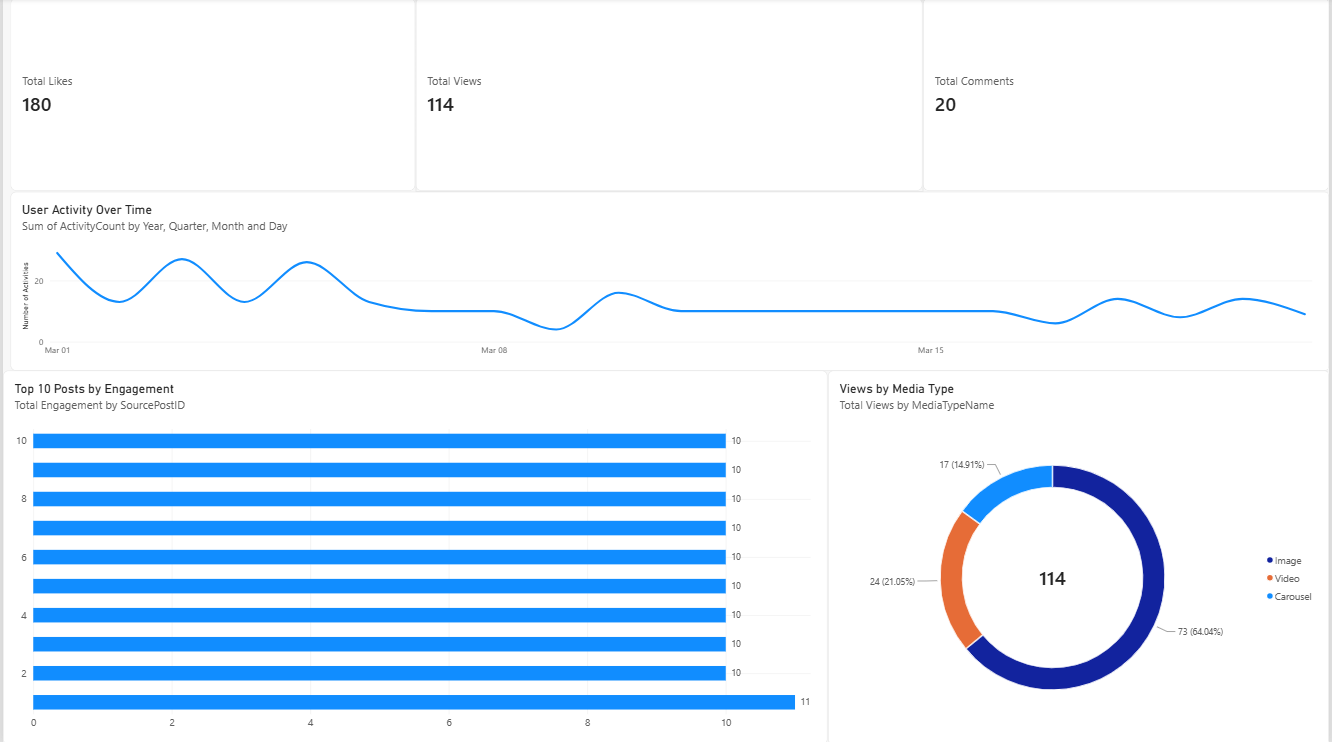

What the dashboard file says about the page in this screenshot:
{"tool":"powerbi","page":{"name":"Page 1","canvas":[1920,1080],"ordinal":0},"visuals":[{"type":"cardVisual","fields":{"Data":["FactPostEngagement.Total Likes"]},"box":[10.3,0,586.6,279.9],"z":0},{"type":"cardVisual","fields":{"Data":["FactPostEngagement.Total Views"]},"box":[596.9,0,734.8,279.9],"z":1000},{"type":"cardVisual","fields":{"Data":["FactPostEngagement.Total Comments"]},"box":[1331.7,0,588.7,279.9],"z":2000},{"type":"lineChart","title":"User Activity Over Time","fields":{"Category":["DimDate.FullDate.Variation.Date Hierarchy.Year","DimDate.FullDate.Variation.Date Hierarchy.Quarter","DimDate.FullDate.Variation.Date Hierarchy.Month","DimDate.FullDate.Variation.Date Hierarchy.Day"],"Y":["Sum(FactUserActivity.ActivityCount)"]},"box":[10.3,279.9,1910.1,259.3],"z":3000},{"type":"donutChart","title":"Views by Media Type","fields":{"Category":["DimMediaType.MediaTypeName"],"Y":["FactPostEngagement.Total Views"]},"box":[1193.8,539.3,726.6,541.3],"z":5000},{"type":"clusteredBarChart","title":"Top 10 Posts by Engagement","fields":{"Category":["DimPost.SourcePostID"],"Y":["FactPostEngagement.Total Engagement"]},"box":[0,539.3,1193.8,541.3],"z":5001}]}

Visuals, with their boxes in screenshot pixels (x1, y1, x2, y2), scaled from the page's 1920x1080 canvas onto the 1332x742 screenshot:
cardVisual - FactPostEngagement.Total Likes: region(7, 0, 414, 192)
cardVisual - FactPostEngagement.Total Views: region(414, 0, 924, 192)
cardVisual - FactPostEngagement.Total Comments: region(924, 0, 1331, 192)
"User Activity Over Time" lineChart: region(7, 192, 1331, 370)
"Views by Media Type" donutChart: region(828, 371, 1331, 741)
"Top 10 Posts by Engagement" clusteredBarChart: region(0, 371, 828, 741)
